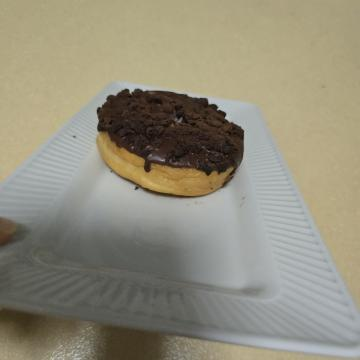doughnut: (81, 103, 211, 282)
